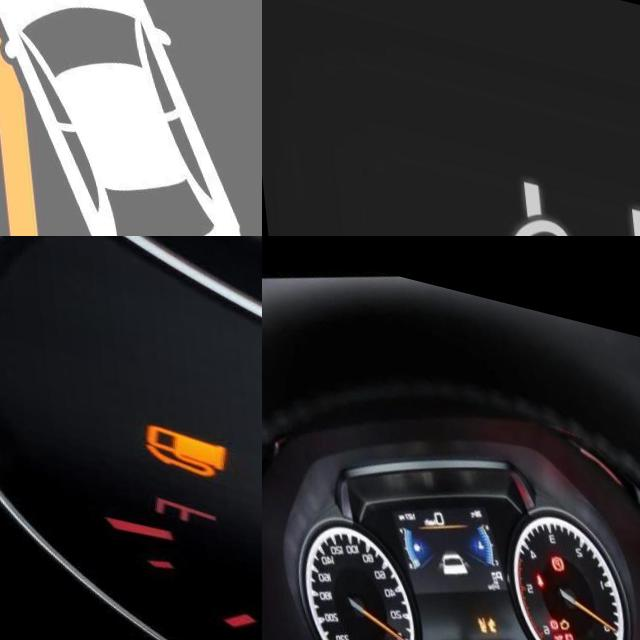Seat Belt: (530, 552, 539, 568)
